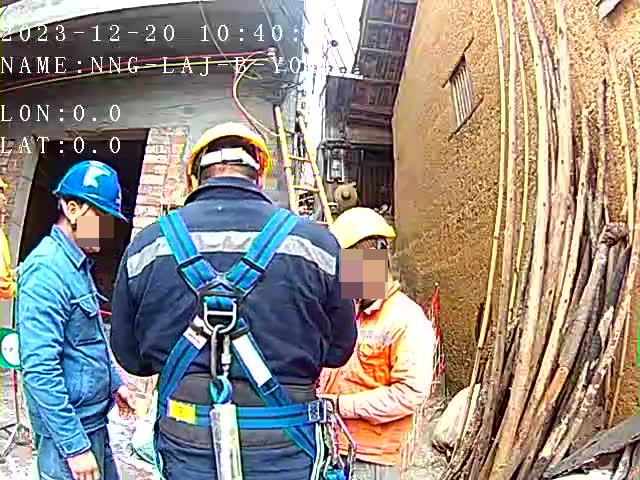downsuit: (30, 434, 115, 477)
halt: (52, 158, 129, 255), (187, 123, 274, 188), (335, 208, 399, 280)
hand: (62, 453, 101, 478), (114, 387, 139, 419)
inear: (353, 241, 383, 286), (61, 197, 88, 235)
person: (116, 123, 357, 480), (9, 156, 139, 480), (326, 205, 443, 480)
safebelt: (144, 203, 335, 480)
upsuit: (109, 173, 357, 443), (18, 237, 109, 416)
yupsuit: (340, 279, 442, 455)
